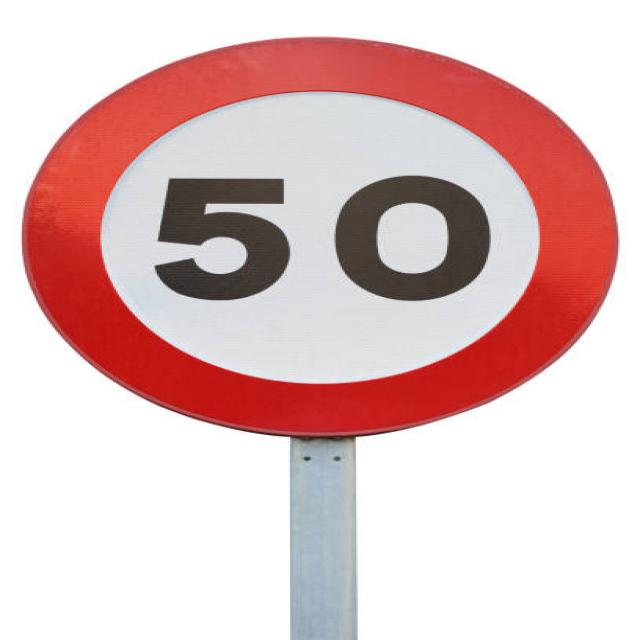speed_limit_50: (14, 21, 626, 442)
